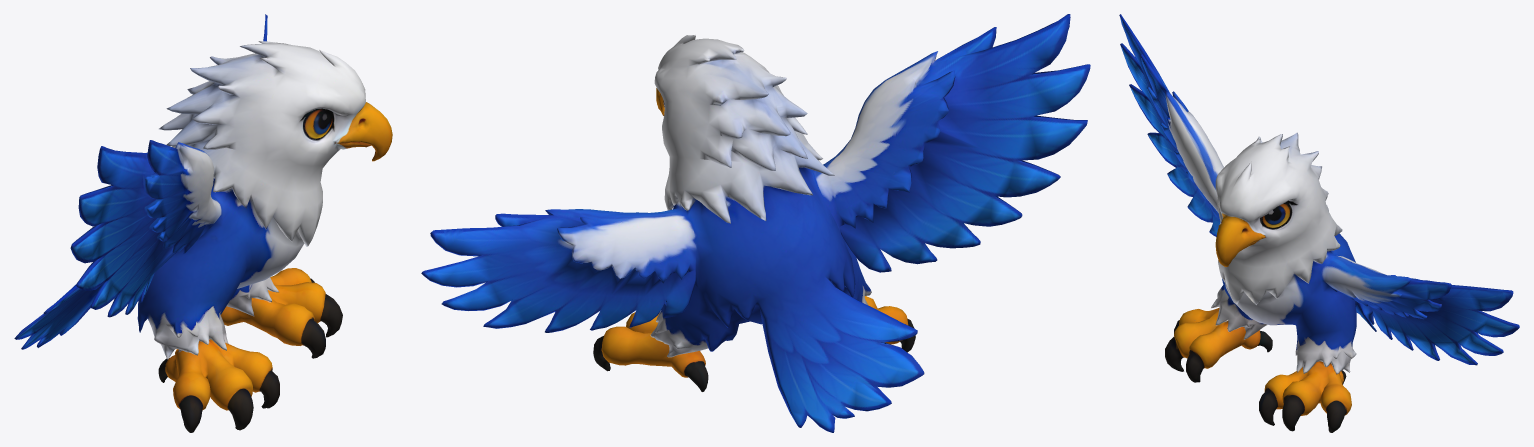
File: ravenclaw-1.glb
3 views of the same model, side by side, from view 1: azimuth 30°, elevation 25°; view 2: azimuth 150°, elevation 25°; view 3: azimuth 270°, elevation 25° (orthographic). The views are drawn at different scales.
Visible parts, largest first — view 1: tripo_node_48e46dd9-0d09-4929-9e3b-12a64dd48707; view 2: tripo_node_48e46dd9-0d09-4929-9e3b-12a64dd48707; view 3: tripo_node_48e46dd9-0d09-4929-9e3b-12a64dd48707.
Boxes of the visible parts, box(x1,y1,x2,y2) form: tripo_node_48e46dd9-0d09-4929-9e3b-12a64dd48707: box(14, 14, 392, 432); tripo_node_48e46dd9-0d09-4929-9e3b-12a64dd48707: box(421, 14, 1090, 432); tripo_node_48e46dd9-0d09-4929-9e3b-12a64dd48707: box(1119, 14, 1519, 432).
Size of the model in its own units: 0.998 by 0.7793 by 0.9746.
Materials: 1 (1 with a texture image).
